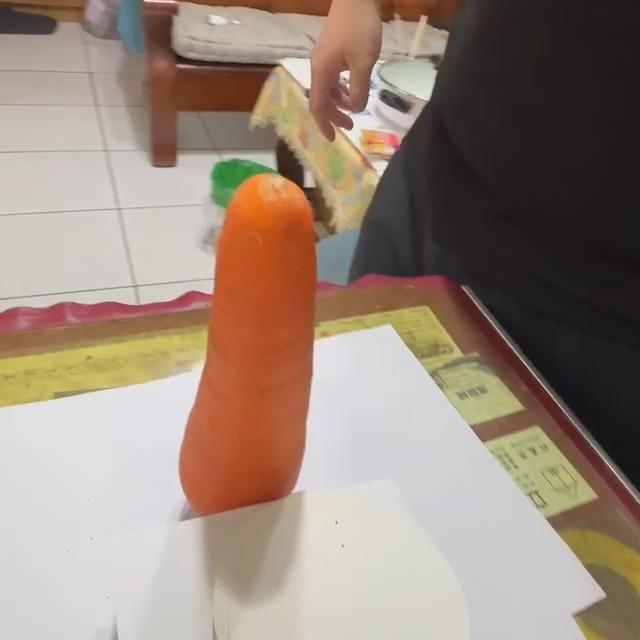carrot: (176, 173, 319, 520)
